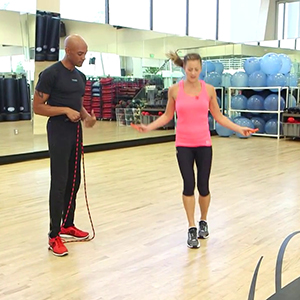person: (130, 50, 260, 251), (32, 29, 96, 258)
